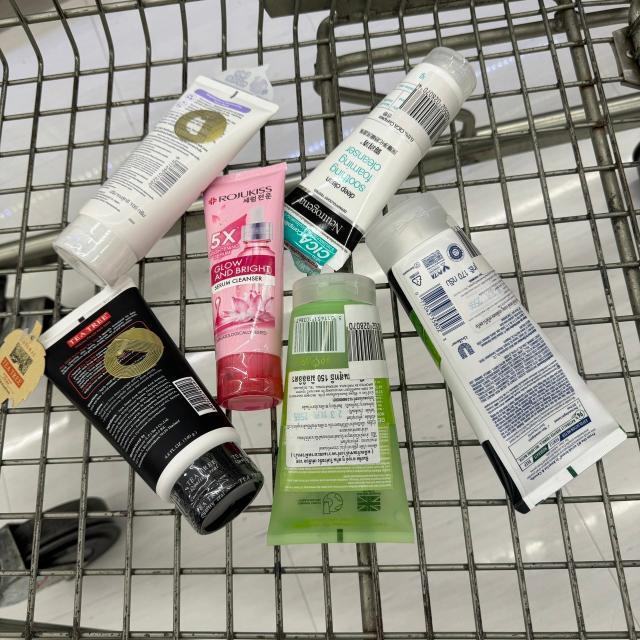Squeeze Tube: (364, 179, 629, 510), (29, 276, 268, 532), (283, 24, 506, 283), (49, 74, 290, 298), (249, 278, 424, 552), (203, 164, 288, 411)
